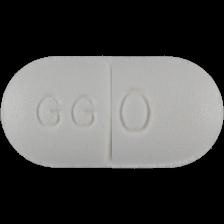0781-5181: (0, 0, 224, 224)
